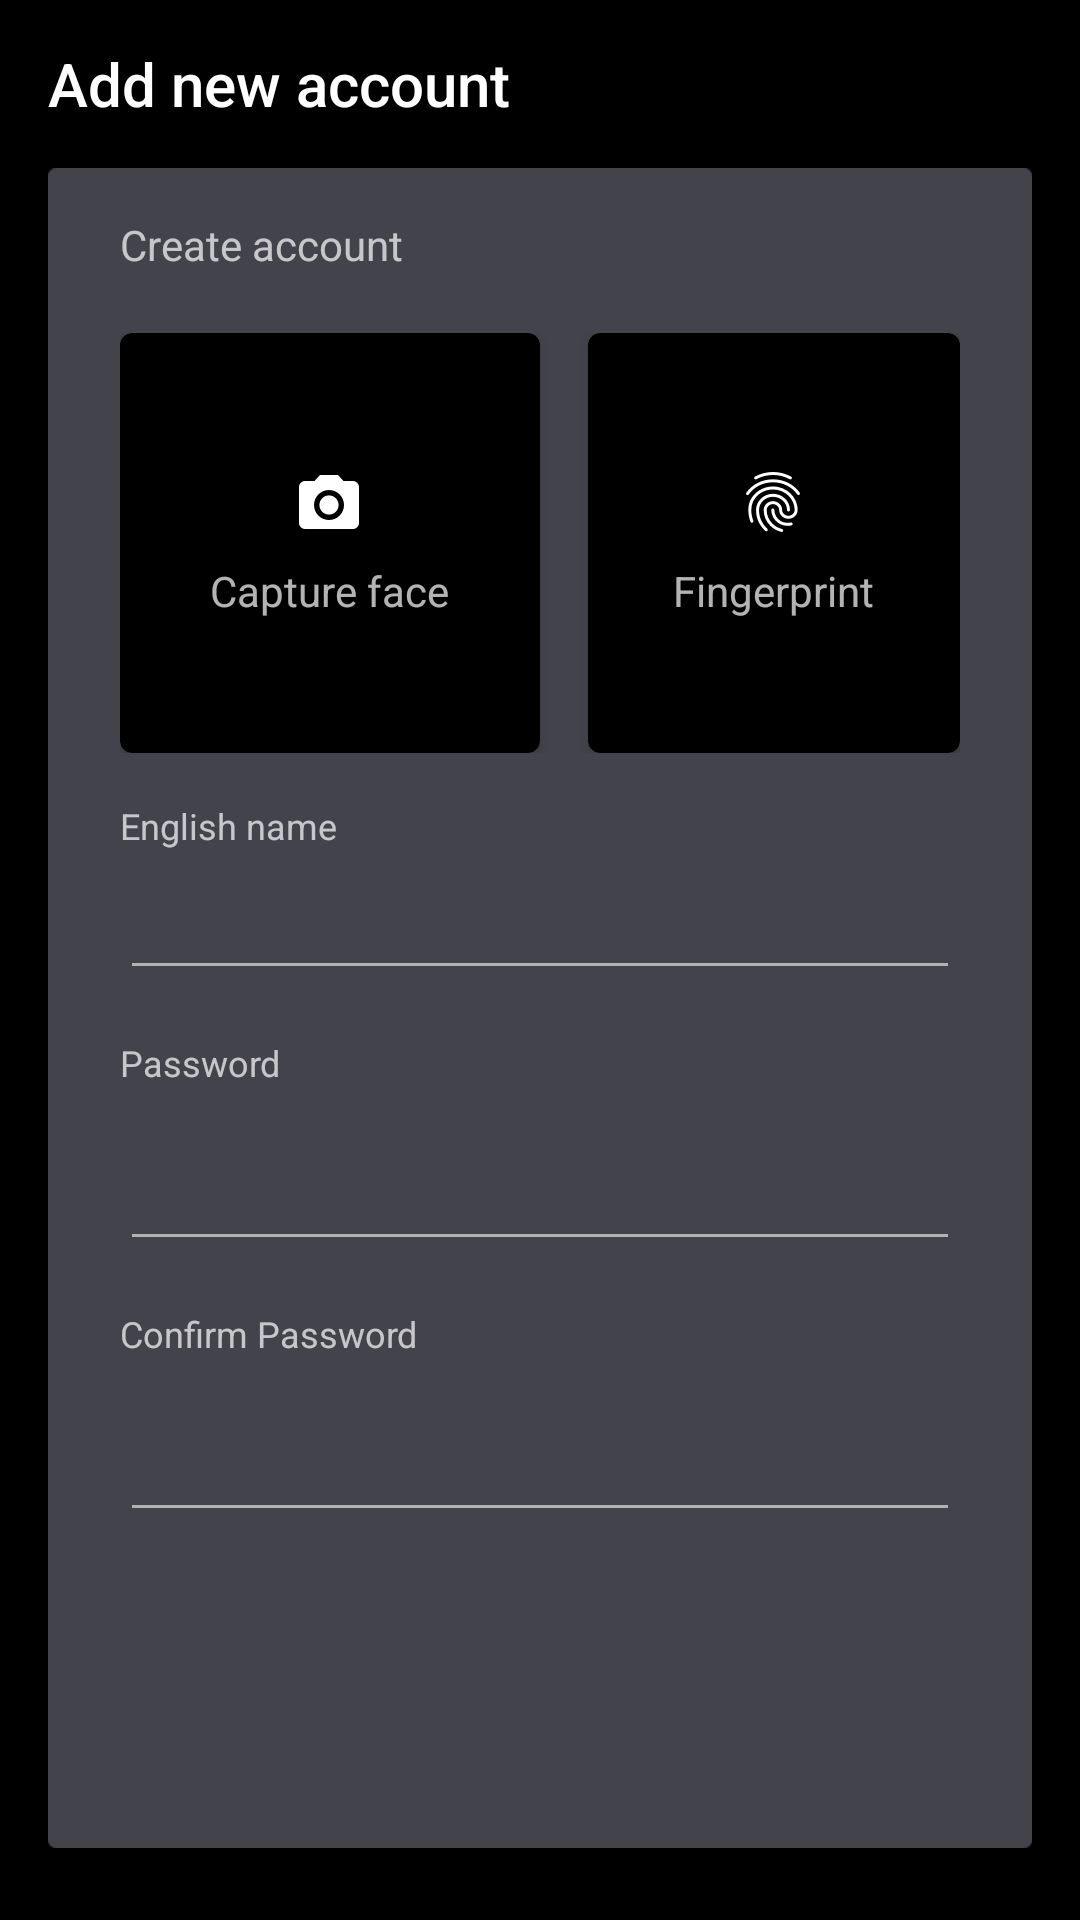

Screen size 1080 x 1920. Icon name, then its box in pixels as [x1,y1,x2,y2]:
camera: [299,475,359,529]
